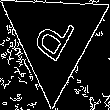P_SW: (28, 7, 80, 69)
